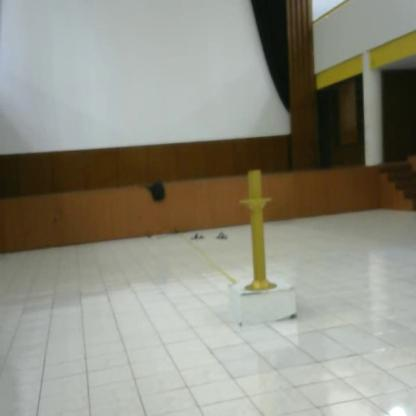pole: (237, 169, 280, 297)
